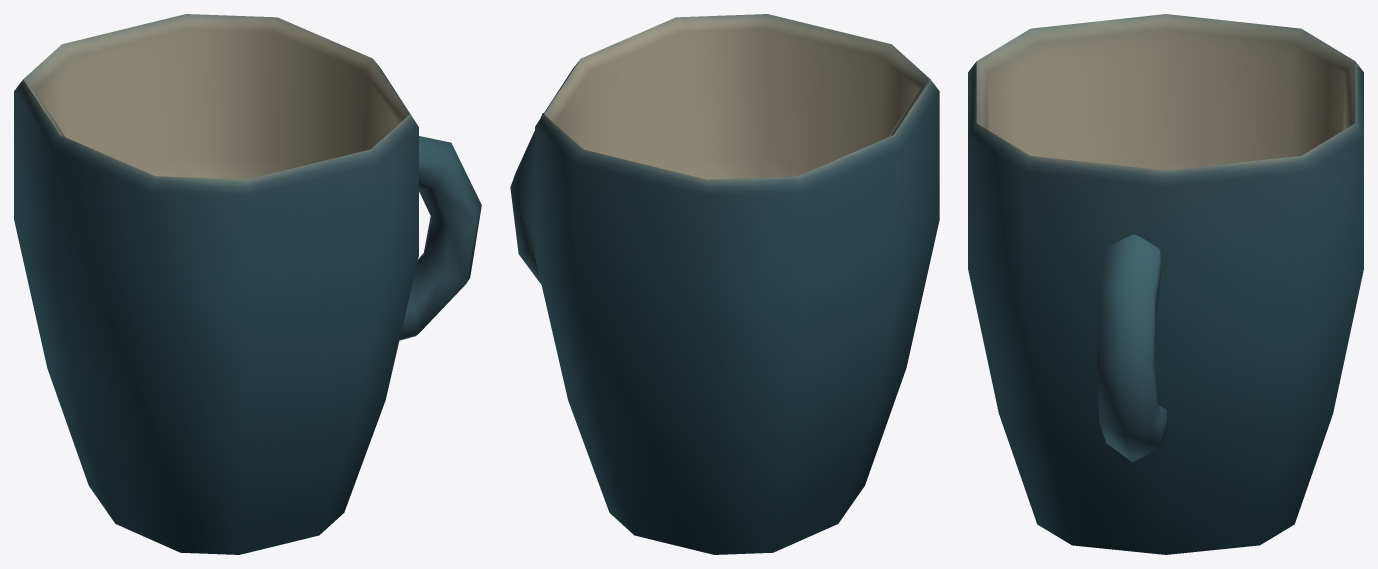
Rendered from Cup.fbx.
3 views of the same model, side by side, from view 1: azimuth 30°, elevation 25°; view 2: azimuth 150°, elevation 25°; view 3: azimuth 270°, elevation 25° (orthographic). The views are drawn at different scales.
Visible parts, largest first — view 1: DinnerScene:BaseCup, DinnerScene:Handle; view 2: DinnerScene:BaseCup, DinnerScene:Handle; view 3: DinnerScene:BaseCup, DinnerScene:Handle.
Boxes of the visible parts, x1,y1,x2,y2 form: DinnerScene:BaseCup: (14,14,418,554); DinnerScene:Handle: (399,136,481,340); DinnerScene:BaseCup: (535,14,939,554); DinnerScene:Handle: (510,113,543,284); DinnerScene:BaseCup: (968,14,1363,554); DinnerScene:Handle: (1096,234,1167,461).
Bounding box in the file's own units: 2.43 × 2.29 × 1.99.
